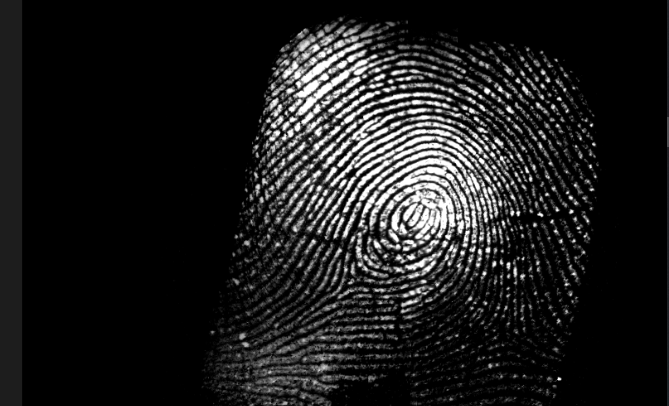nucelo: (394, 193, 435, 231)
verticilo: (328, 265, 363, 301), (492, 317, 522, 352)
